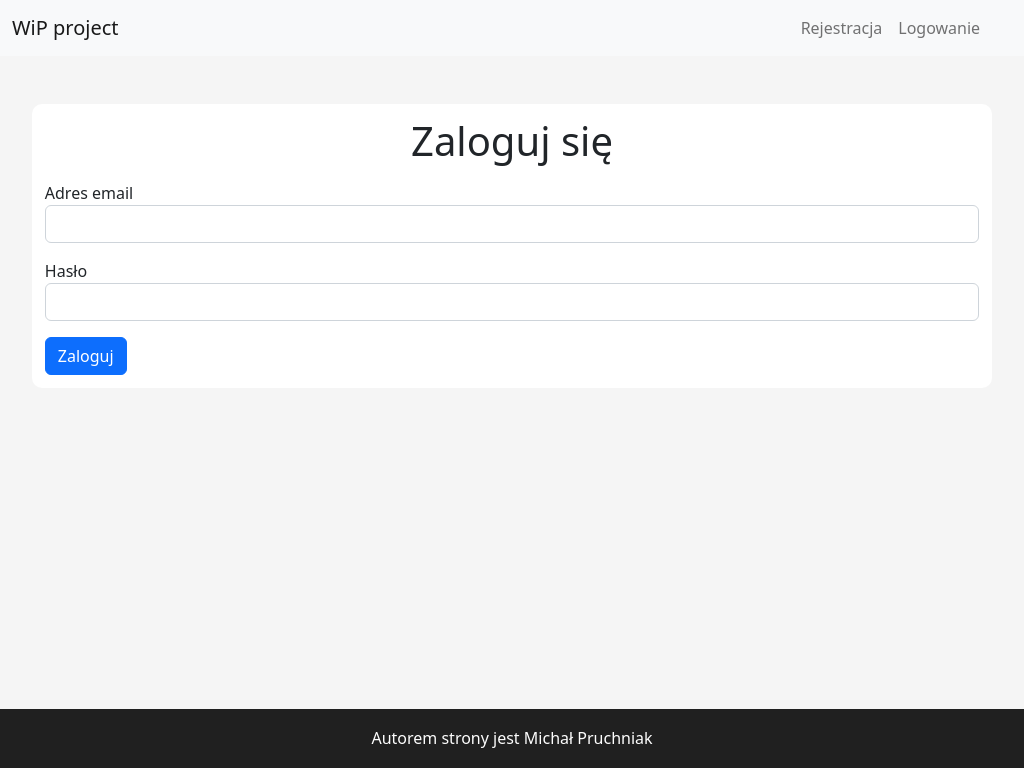
Test: wrong creditionals
Type "admin@admin.pl" into the field labelled "Adres email" at coordinates (512, 224), box [45,205,979,243]
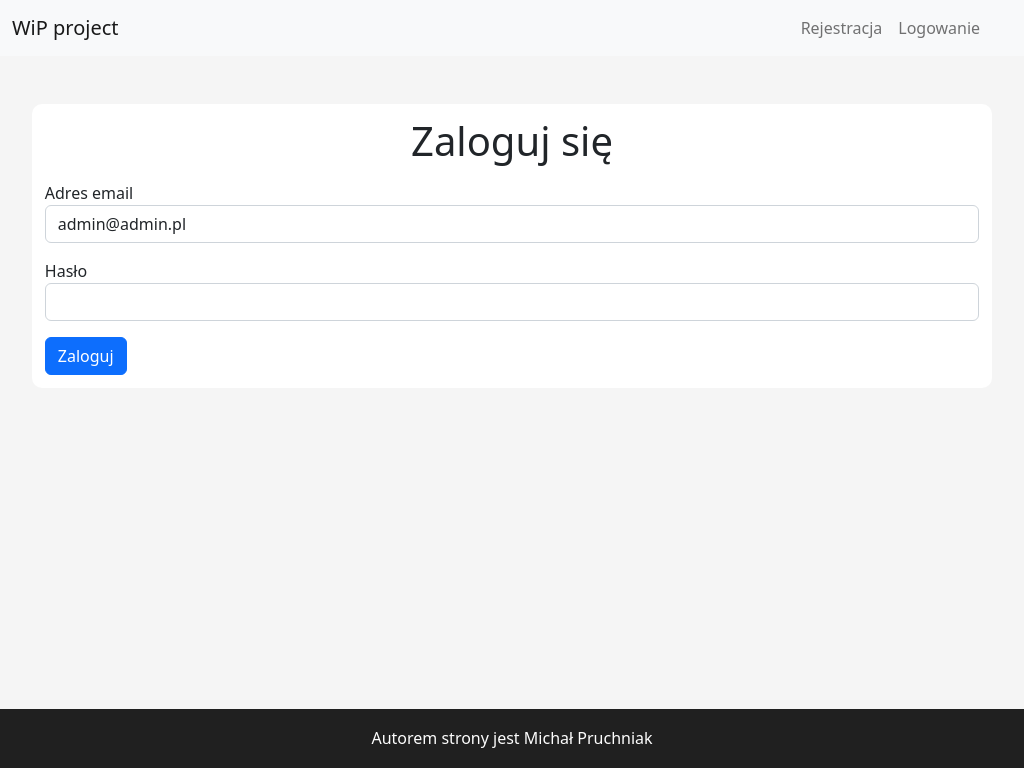
Type "hello world" into the password field labelled "Hasło" at coordinates (512, 302), box [45,283,979,321]
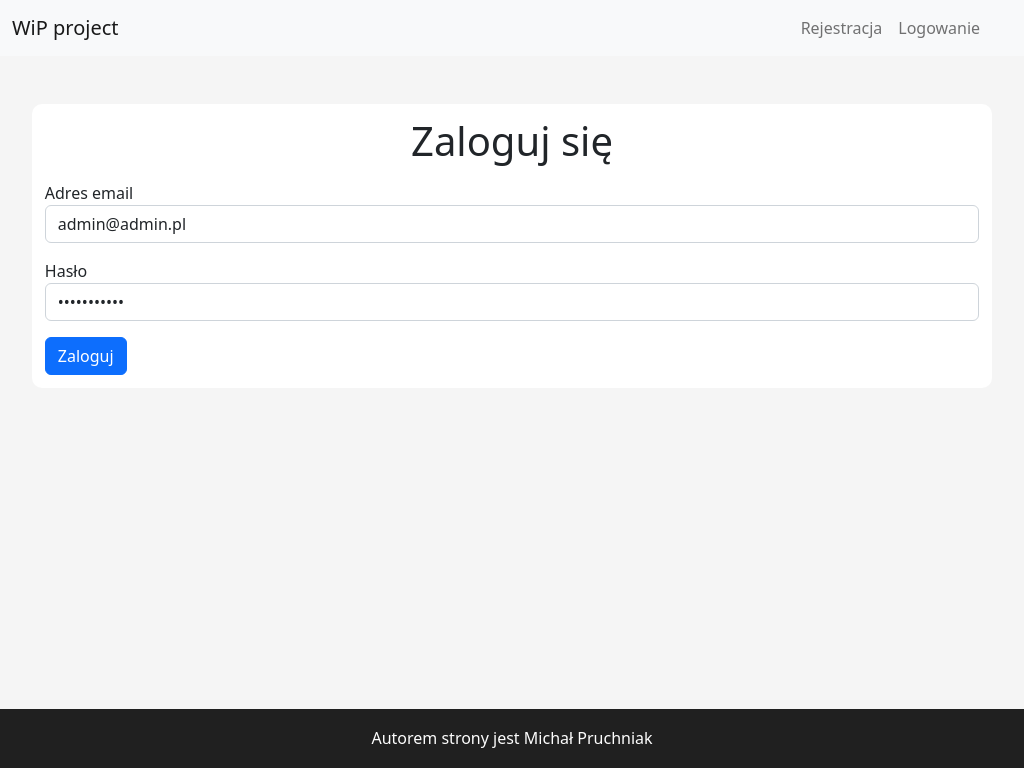
Click the submit button at coordinates (86, 356), box [45,337,127,375]
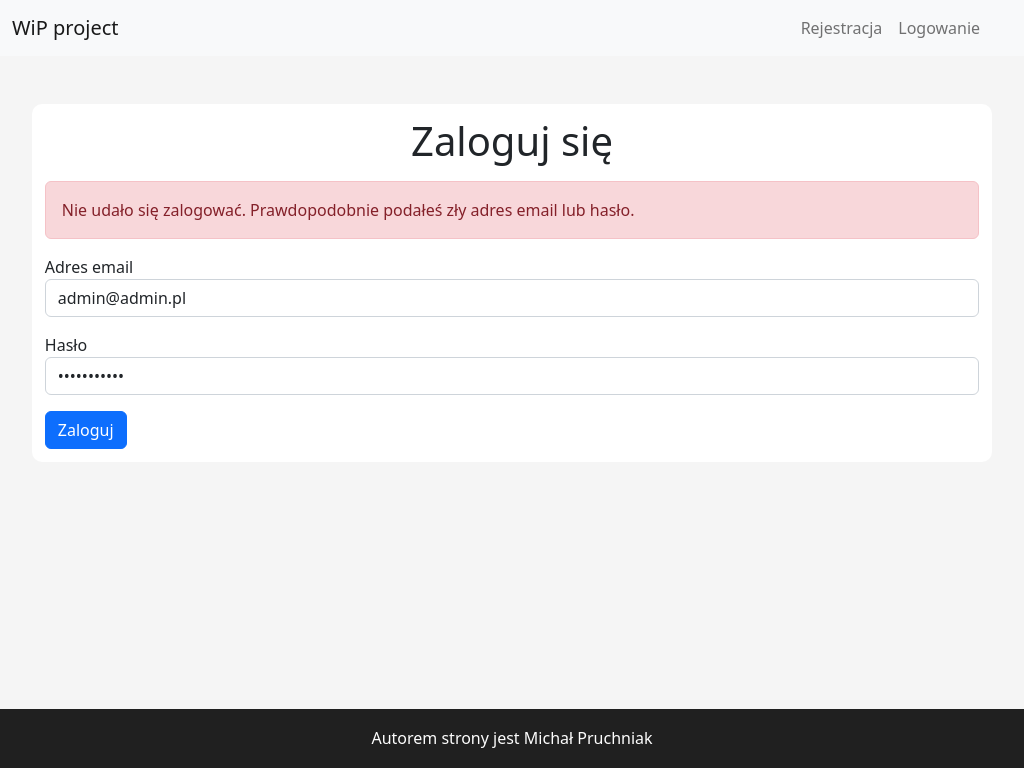
Expected: the text "Nie udało się zalogować. Prawdopodobnie podałeś zły adres email lub hasło." is shown, [45,181,979,239]
